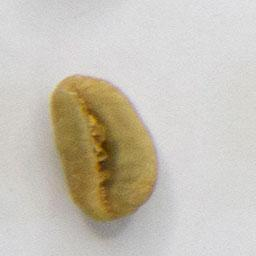longberry: (47, 69, 161, 221)
